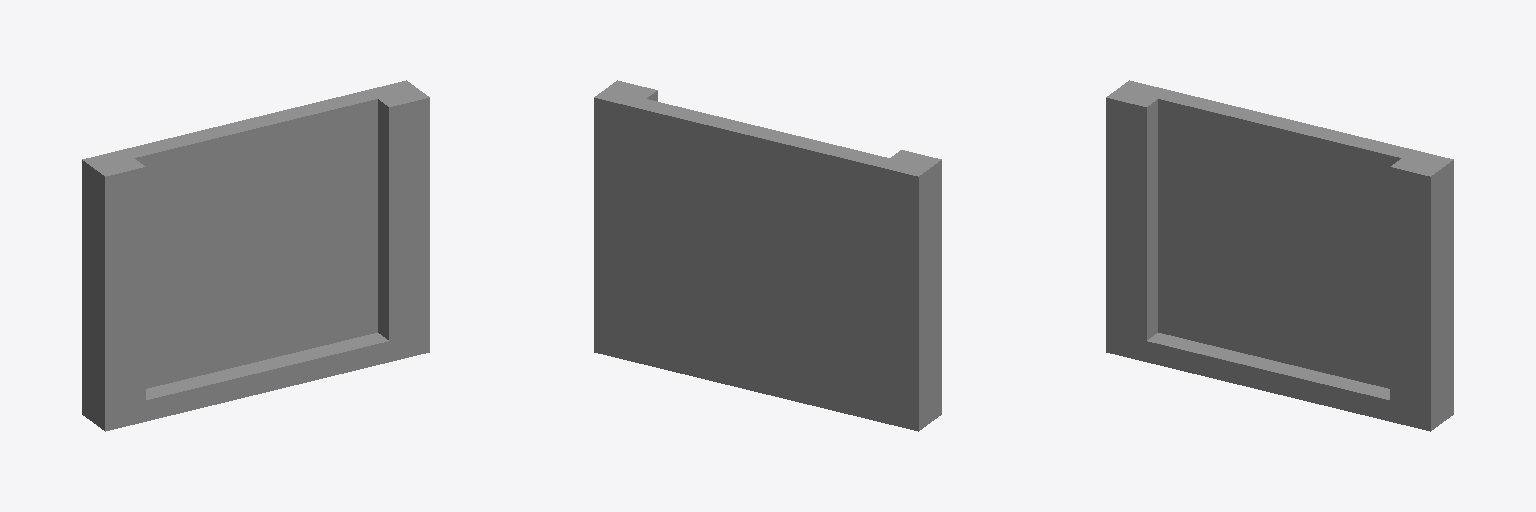
Rendered from singleWall.obj.
3 views of the same model, side by side, from view 1: azimuth 30°, elevation 25°; view 2: azimuth 150°, elevation 25°; view 3: azimuth 330°, elevation 25° (orthographic).
Parts seen in each view (by area): view 1: Cube.001_Cube.002; view 2: Cube.001_Cube.002; view 3: Cube.001_Cube.002.
Part boxes in pixels (left/top/right/bottom): Cube.001_Cube.002: left=82, top=80, right=429, bottom=431; Cube.001_Cube.002: left=594, top=80, right=941, bottom=431; Cube.001_Cube.002: left=1106, top=80, right=1453, bottom=431.
Bounding box in the file's own units: 16 × 12 × 2.